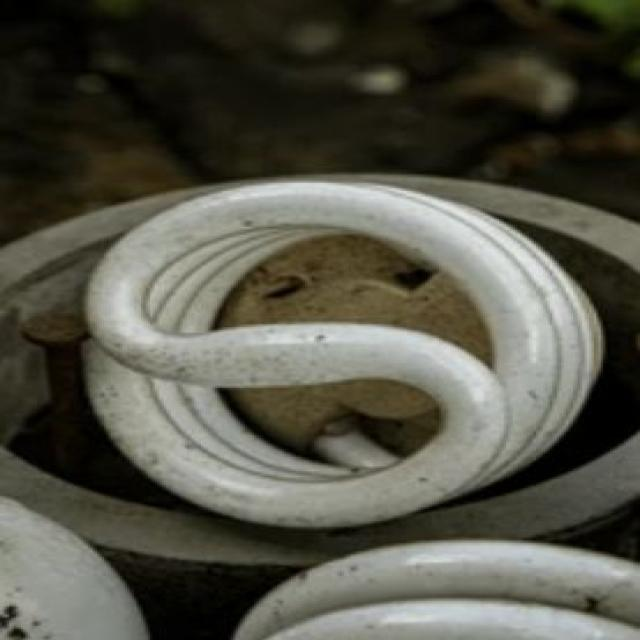electronic: (76, 177, 608, 530), (215, 535, 638, 639), (0, 488, 155, 638)
